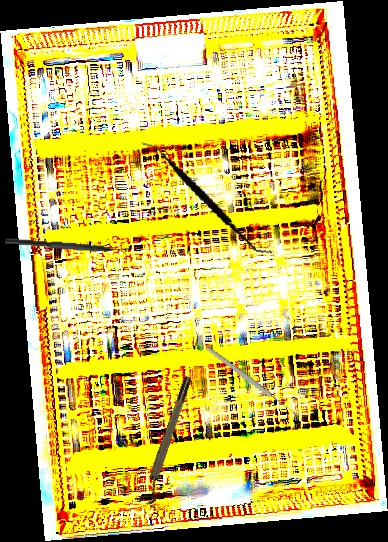Chopper: (4, 237, 133, 262)
Fixation Ring: (136, 374, 200, 508)
Spatula Surgical: (123, 140, 290, 255)
Surgical Spoon: (205, 345, 300, 419)
